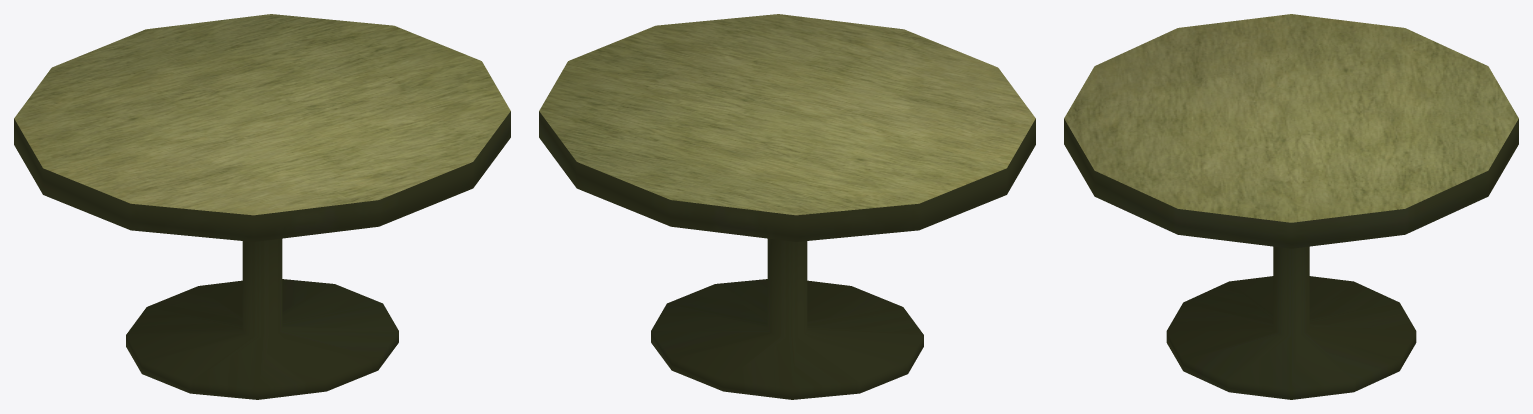
Rendered from desk.glb.
3 renders of one model, left to right at view 1: azimuth 30°, elevation 25°; view 2: azimuth 150°, elevation 25°; view 3: azimuth 270°, elevation 25°, orthographic. The views are drawn at different scales.
Parts seen in each view (by area): view 1: desk; view 2: desk; view 3: desk.
Part boxes in pixels (<box>): desk: <box>14,14,510,399</box>; desk: <box>539,14,1035,399</box>; desk: <box>1064,14,1518,399</box>.
Bounding box in the file's own units: 1.89 × 0.9438 × 1.74.
Materials: 1 (1 with a texture image).
